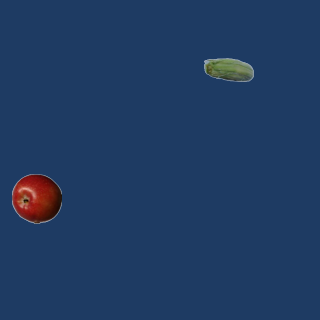Apple Braeburn: (11, 173, 61, 223)
Corn Husk: (203, 46, 253, 96)
